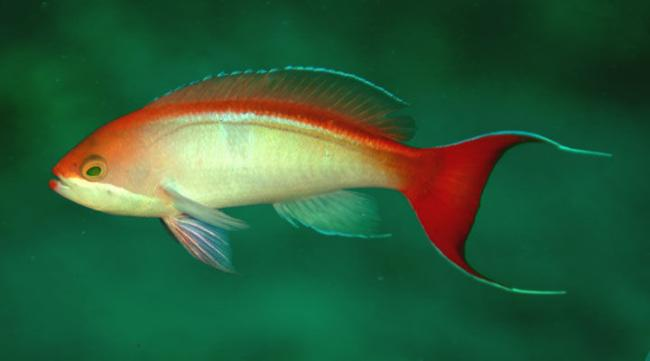fish: (47, 65, 613, 296)
